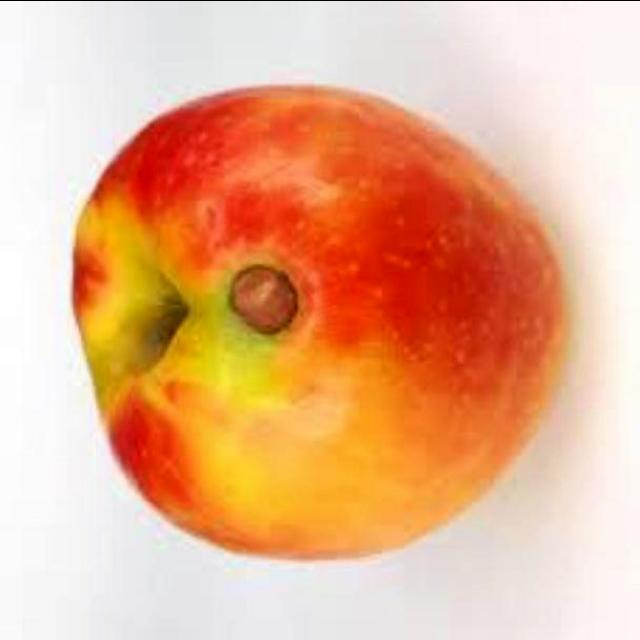SCAB: (69, 76, 536, 552)
